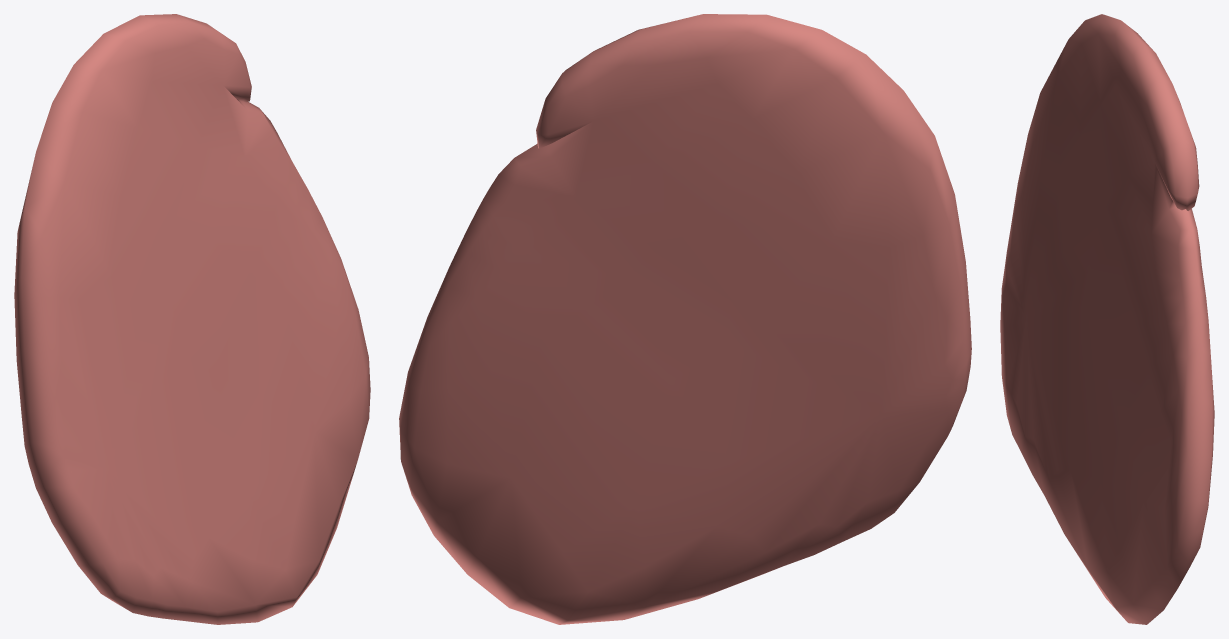
3 views of the same model, side by side, from view 1: azimuth 30°, elevation 25°; view 2: azimuth 150°, elevation 25°; view 3: azimuth 270°, elevation 25° (orthographic). The views are drawn at different scales.
Visible parts, largest first — view 1: ZA_f564229516134a51; view 2: ZA_f564229516134a51; view 3: ZA_f564229516134a51.
Boxes of the visible parts, x1,y1,x2,y2 form: ZA_f564229516134a51: [14, 14, 370, 624]; ZA_f564229516134a51: [399, 14, 971, 624]; ZA_f564229516134a51: [1000, 14, 1214, 624].
Size of the model in its own units: 0.00563 by 0.00762 by 0.00283.
